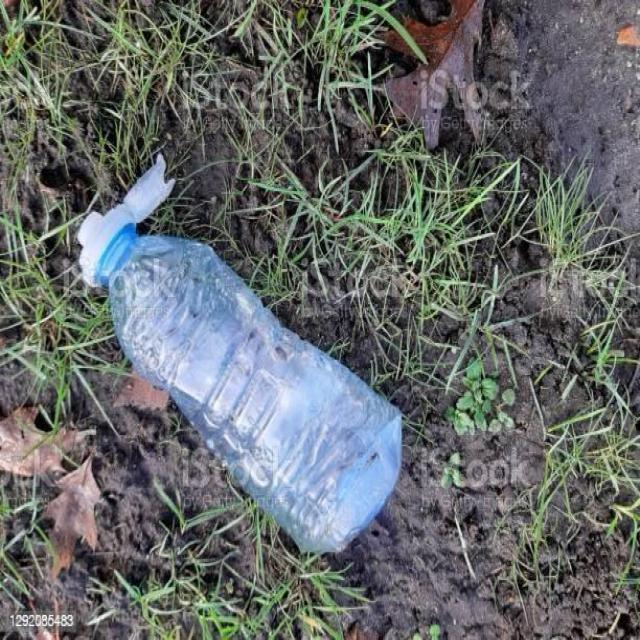bottle: (71, 130, 408, 558)
